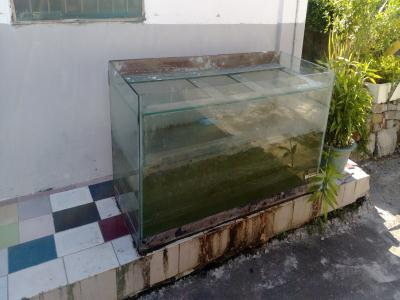aquarium: (103, 45, 337, 258)
